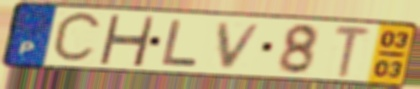8: (276, 23, 322, 77)
C: (48, 9, 105, 67)
H: (96, 13, 158, 68)
L: (159, 18, 202, 68)
T: (332, 24, 374, 79)
V: (215, 22, 266, 71)
